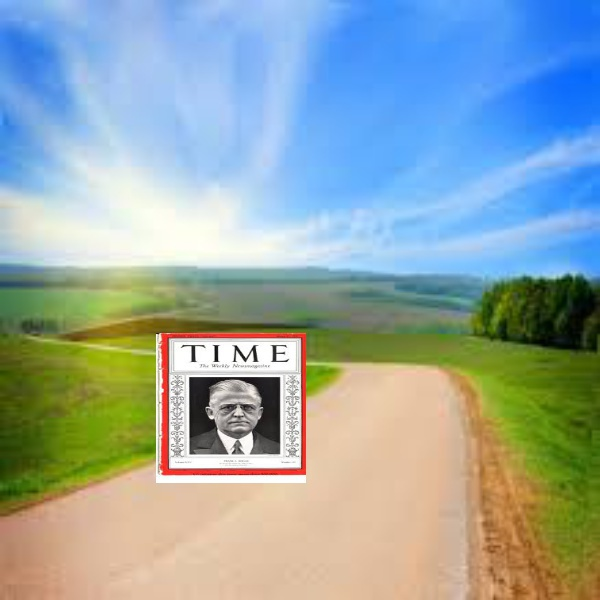time_cover: (143, 323, 312, 480)
